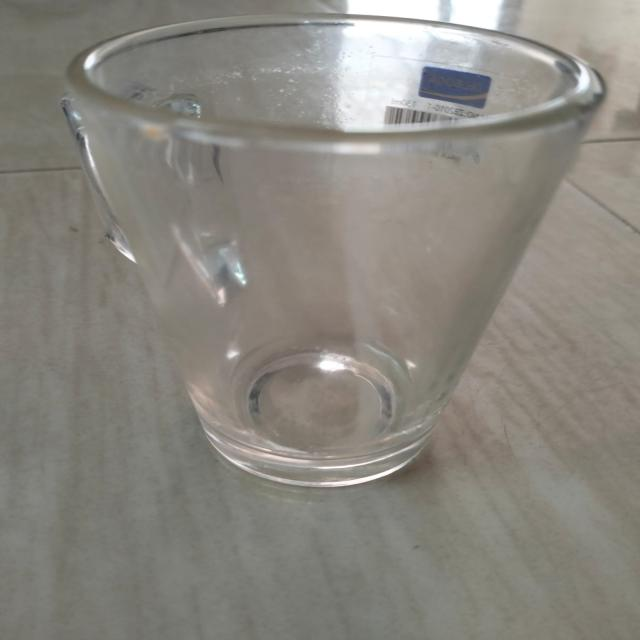glass-VX4N: (64, 12, 609, 486)
